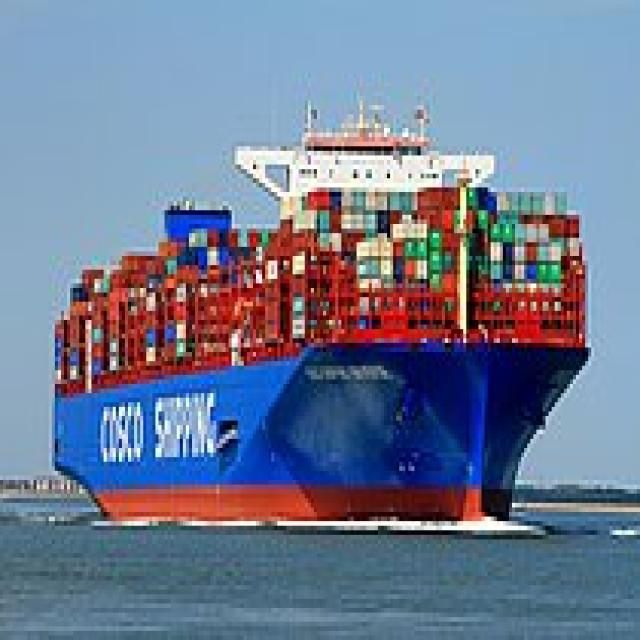Cargo: (46, 73, 594, 526)
